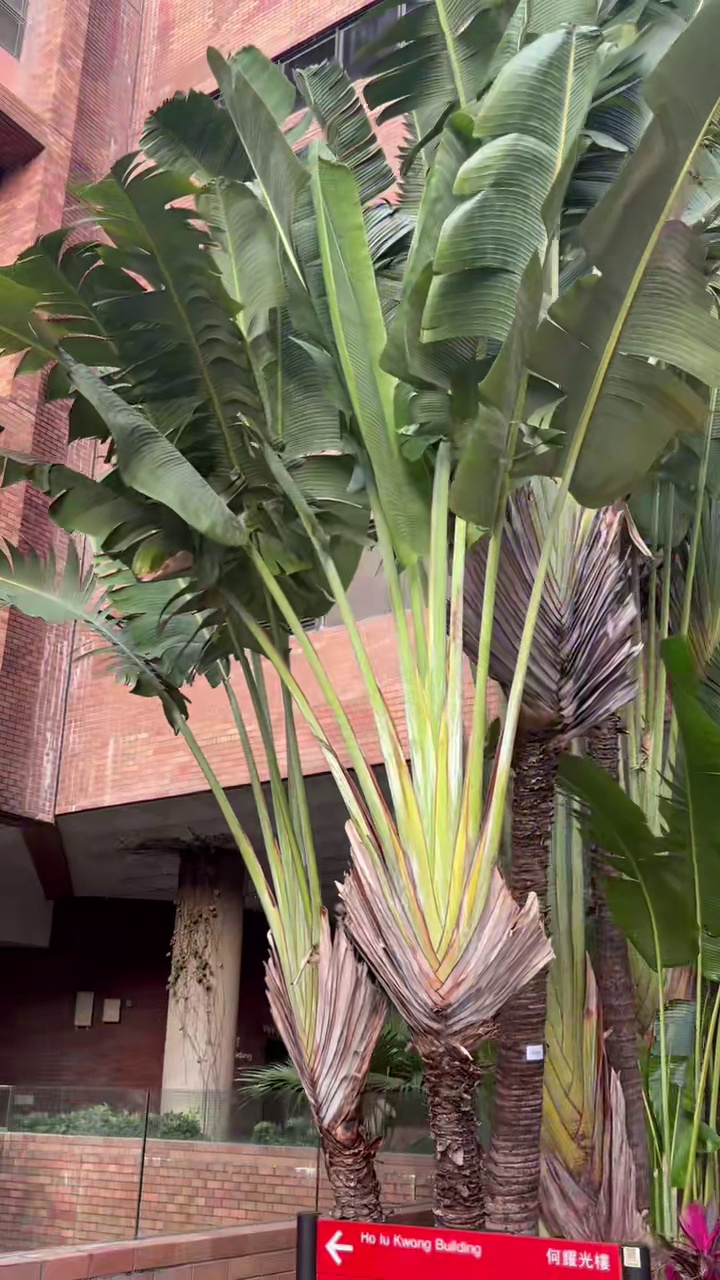Travellers-tree: (0, 5, 606, 1225)
